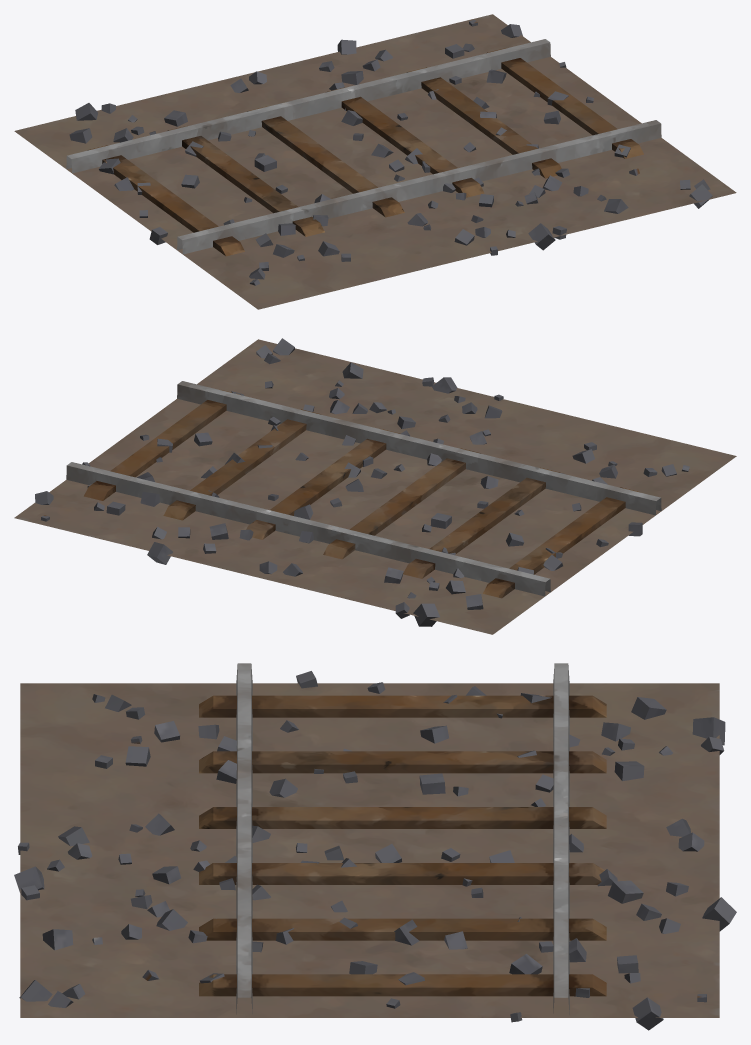
Rendered from RailsB.fbx.
3 renders of one model, top to bottom at view 1: azimuth 30°, elevation 25°; view 2: azimuth 150°, elevation 25°; view 3: azimuth 270°, elevation 25°, orthographic. The views are drawn at different scales.
Visible parts, largest first — view 1: RailsB; view 2: RailsB; view 3: RailsB.
Boxes of the visible parts, box(x1,y1,x2,y2) form: RailsB: box(14, 14, 736, 309); RailsB: box(14, 338, 736, 634); RailsB: box(14, 663, 736, 1030).
Size of the model in its own units: 1018 by 53.06 by 914.
